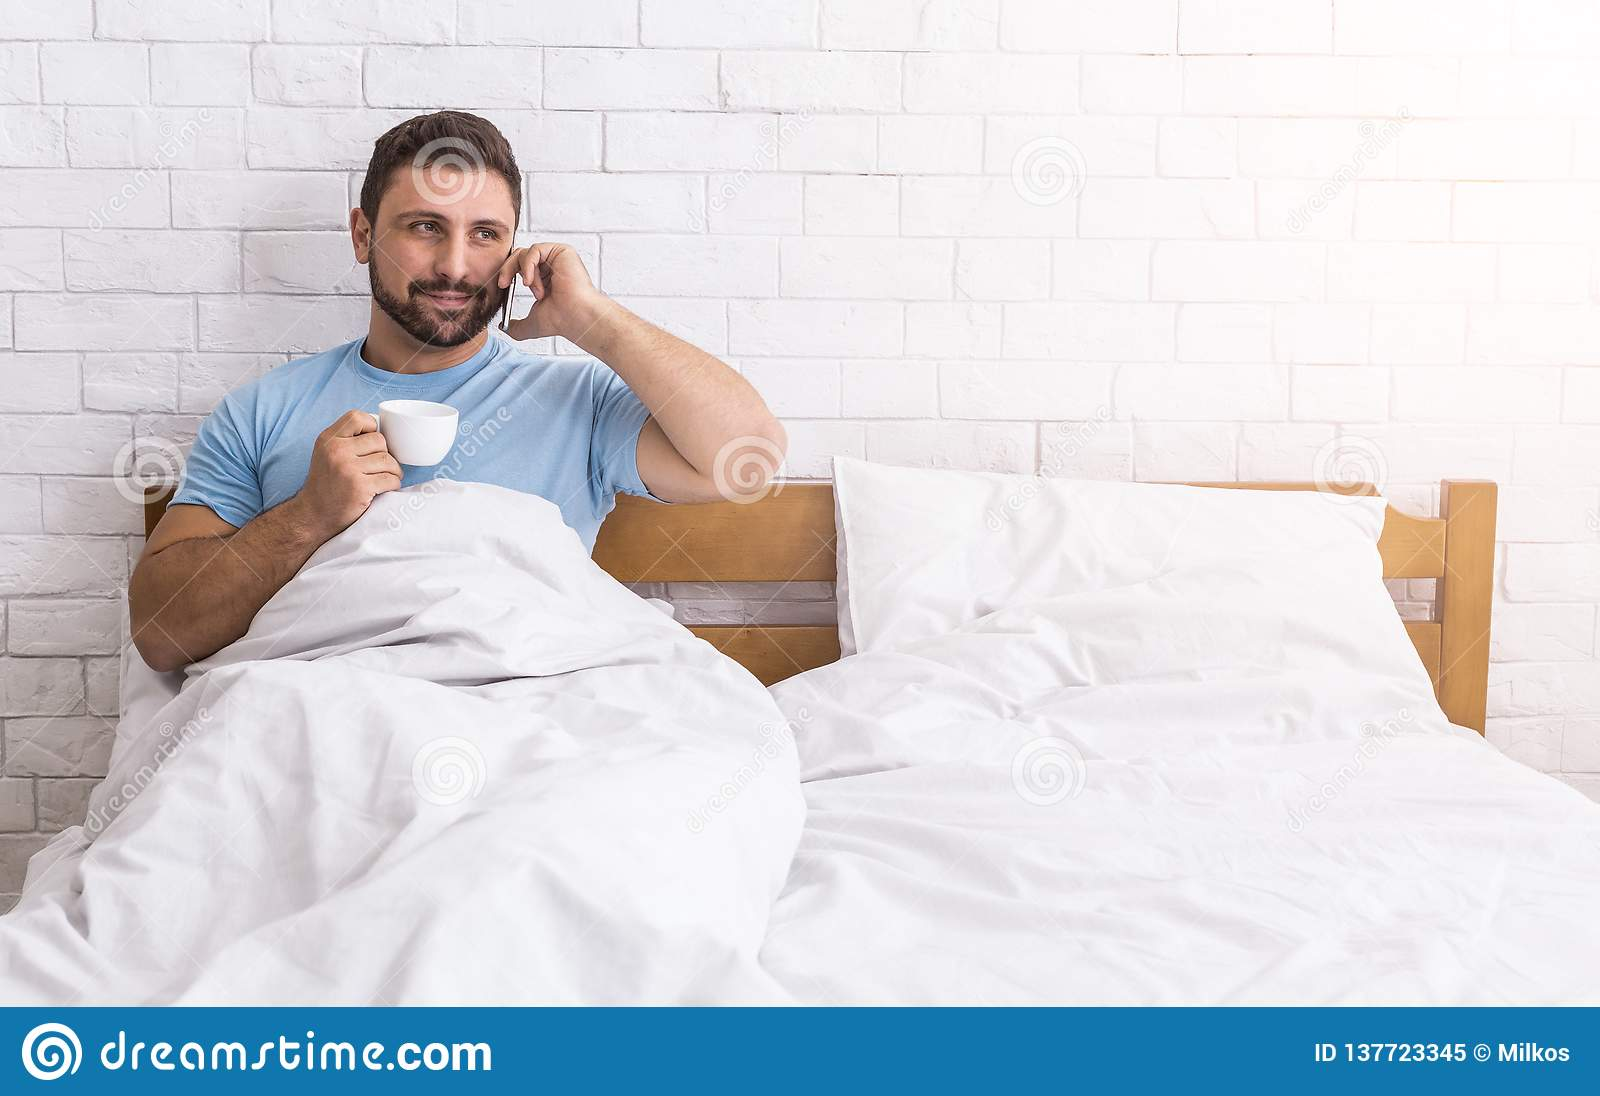phone: (497, 265, 523, 337)
talk: (381, 204, 598, 348)
